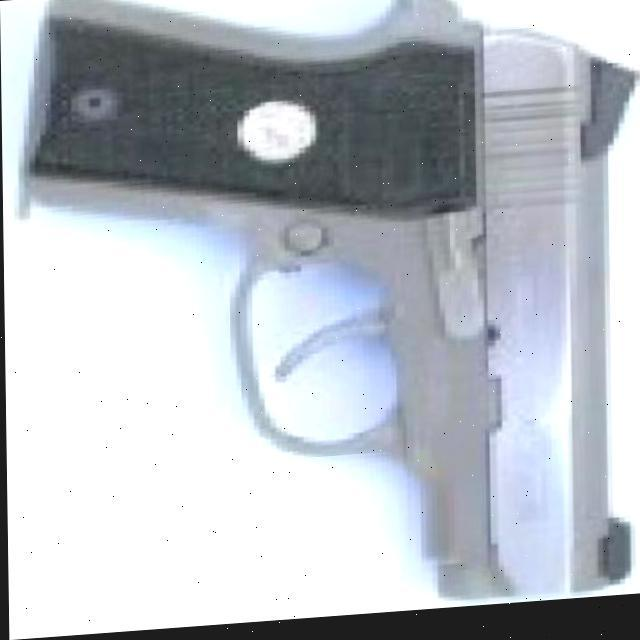gun: (22, 0, 640, 620)
